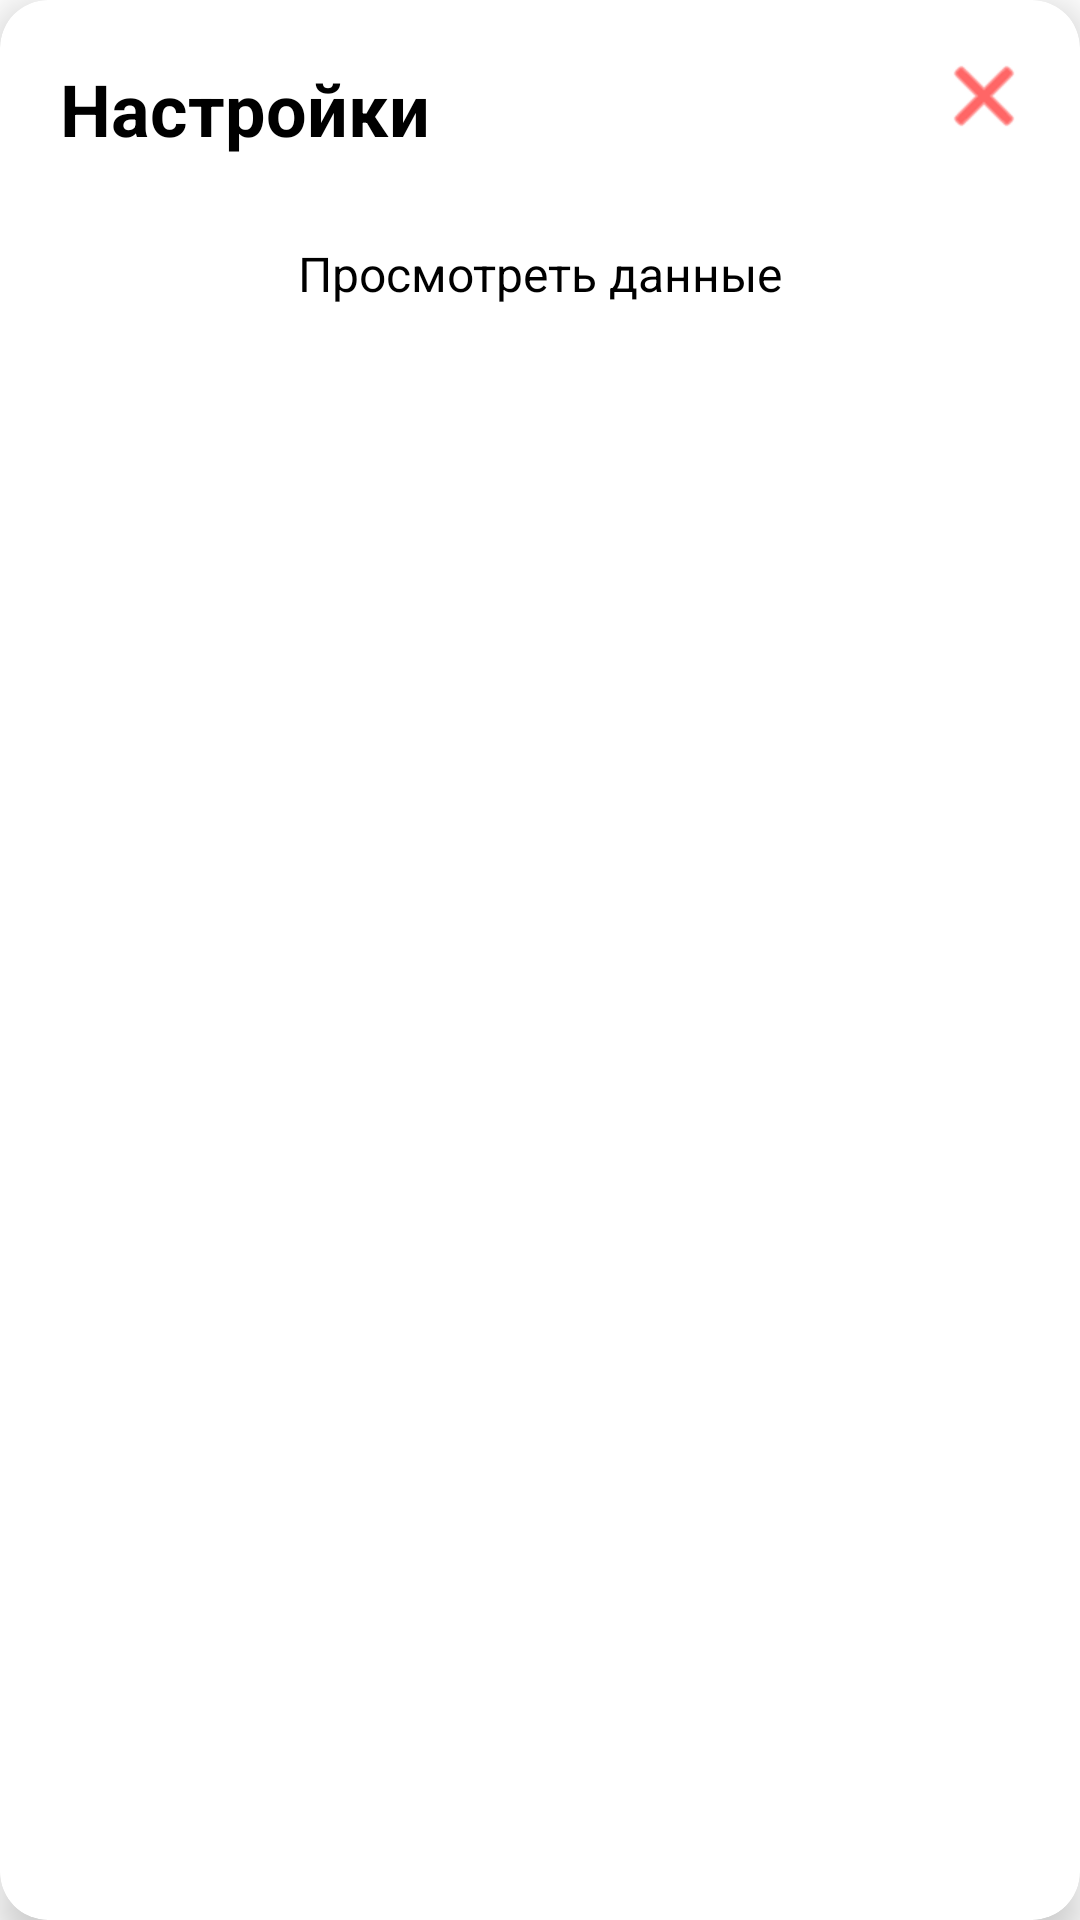

Named icons in this screenshot (1080 x 1920) and their bounding boxes, (x1, y1, x2, y2):
close clear cancel: (954, 66, 1014, 126)
